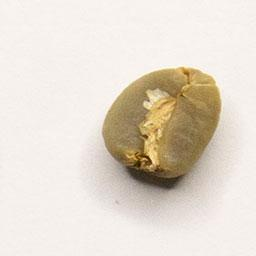premium: (99, 62, 224, 181)
